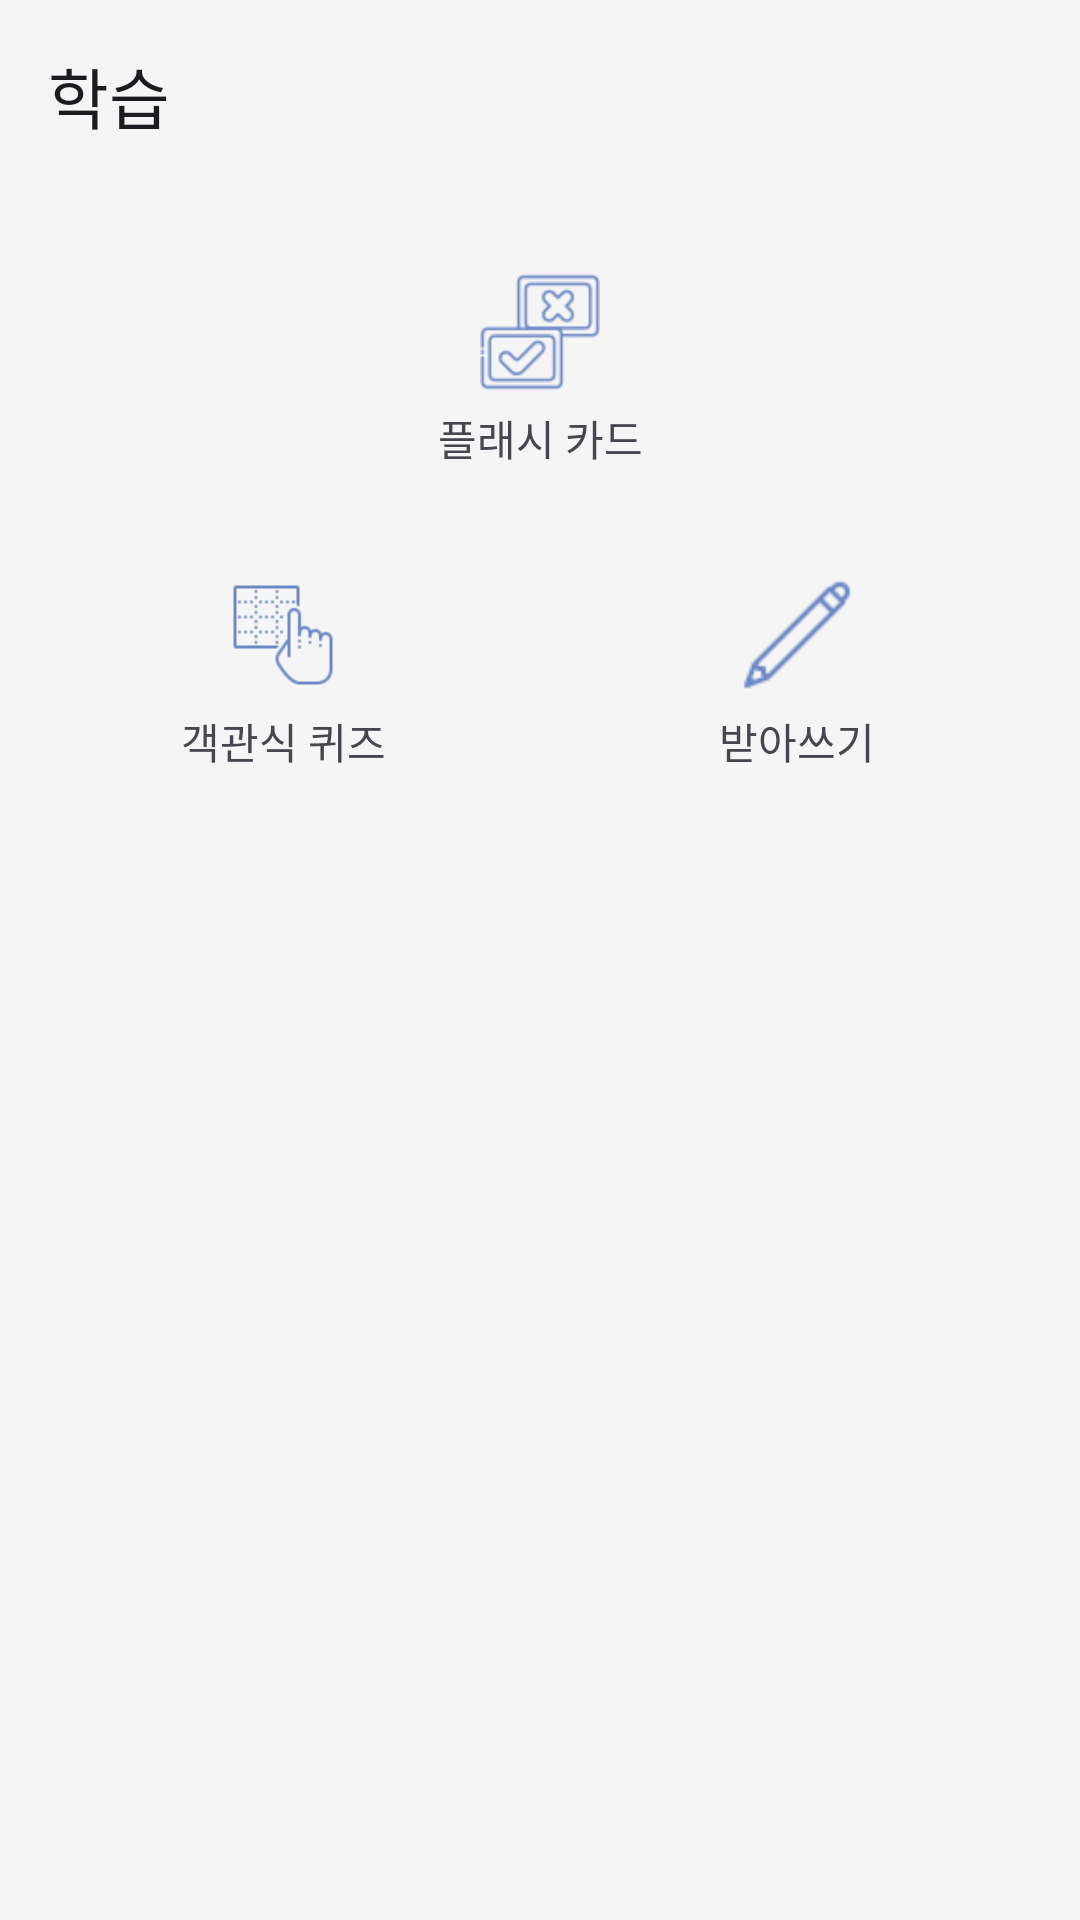

Where icons sit on this 1080 × 1920 app screen, as [x1,y1,x2,y2]:
pencil: [744,581,851,688]
pin pad: [233,585,333,685]
